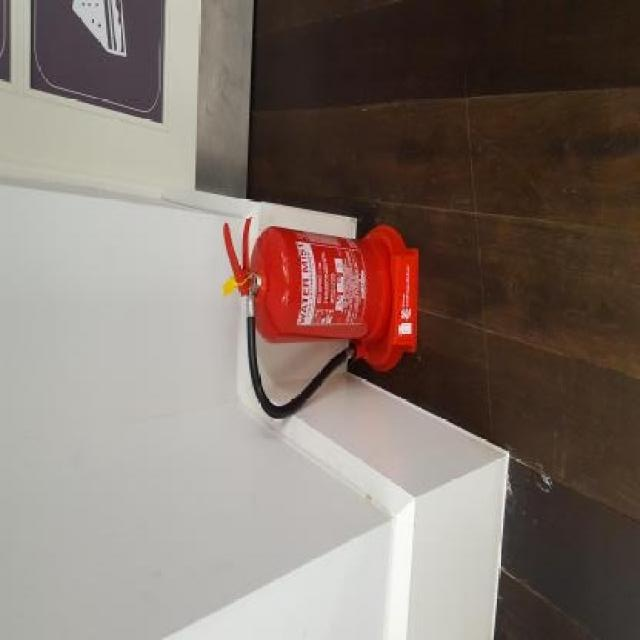fire extinguisher: (223, 214, 391, 418)
